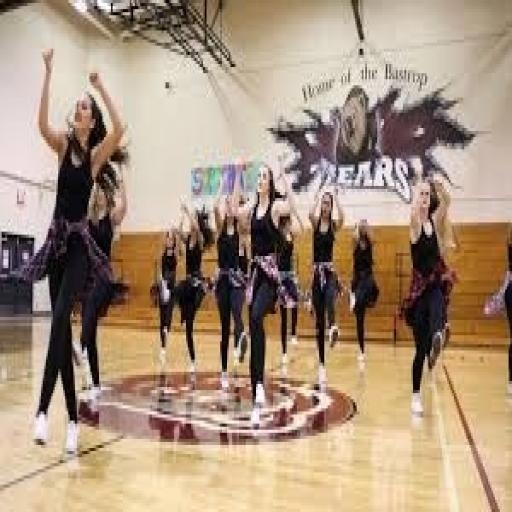dancing: (26, 43, 128, 460)
